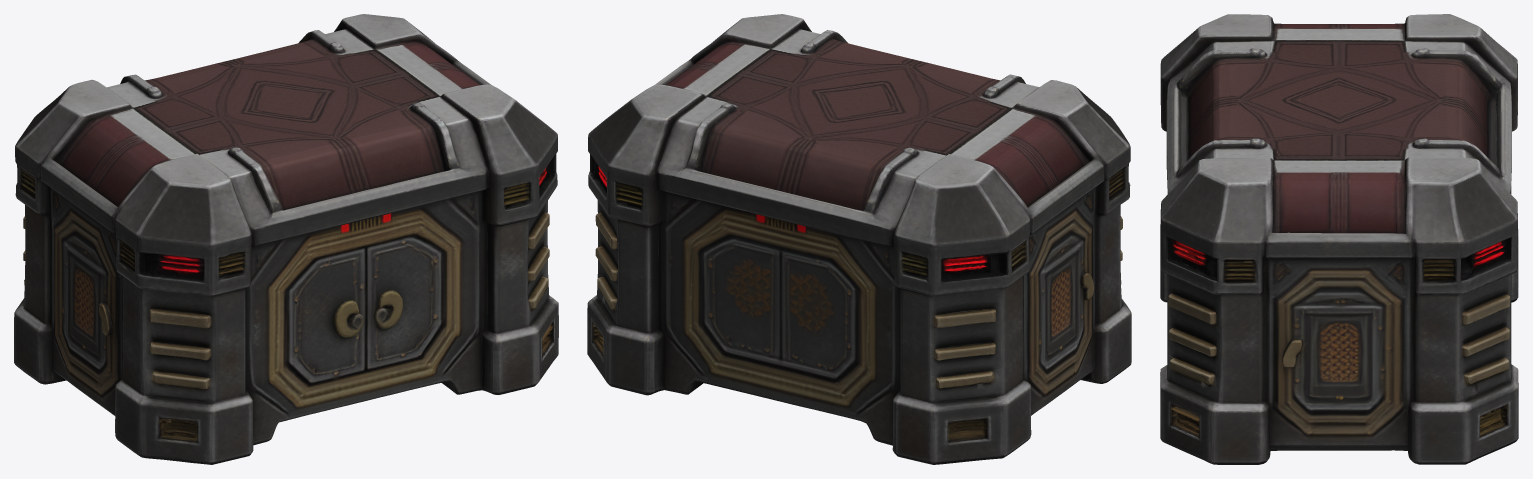
The model's file is tv_cabinet.glb.
3 views of the same model, side by side, from view 1: azimuth 30°, elevation 25°; view 2: azimuth 150°, elevation 25°; view 3: azimuth 270°, elevation 25° (orthographic).
Parts seen in each view (by area): view 1: world; view 2: world; view 3: world.
Part boxes in pixels (<box>): world: <box>14,14,558,464</box>; world: <box>587,14,1131,464</box>; world: <box>1160,14,1518,464</box>.
Size of the model in its own units: 1 by 0.6079 by 0.7318.
Materials: 1 (1 with a texture image).
